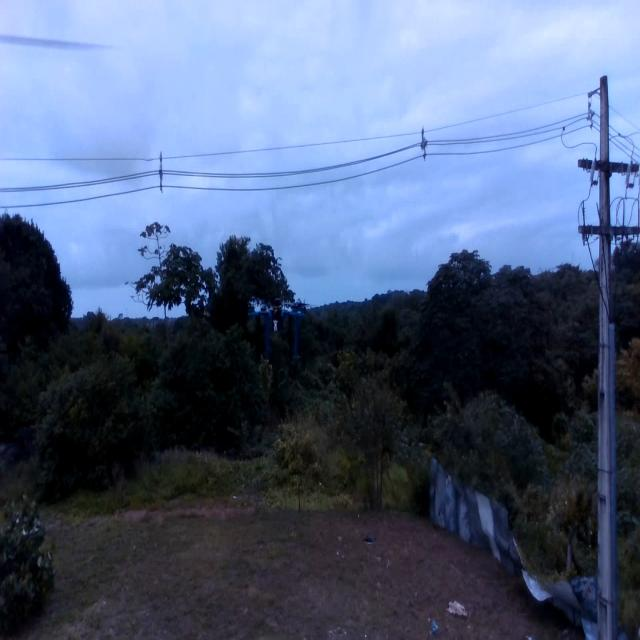-uav-: (242, 290, 308, 366)
